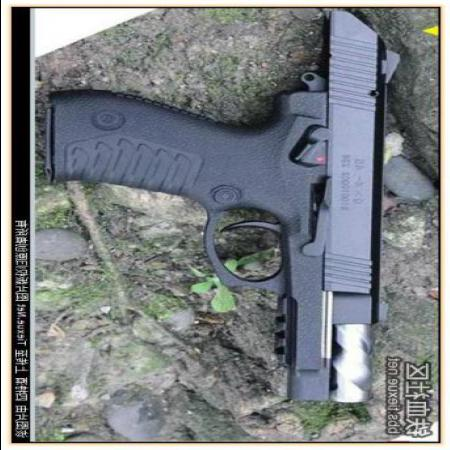Pistol: (30, 9, 388, 418)
